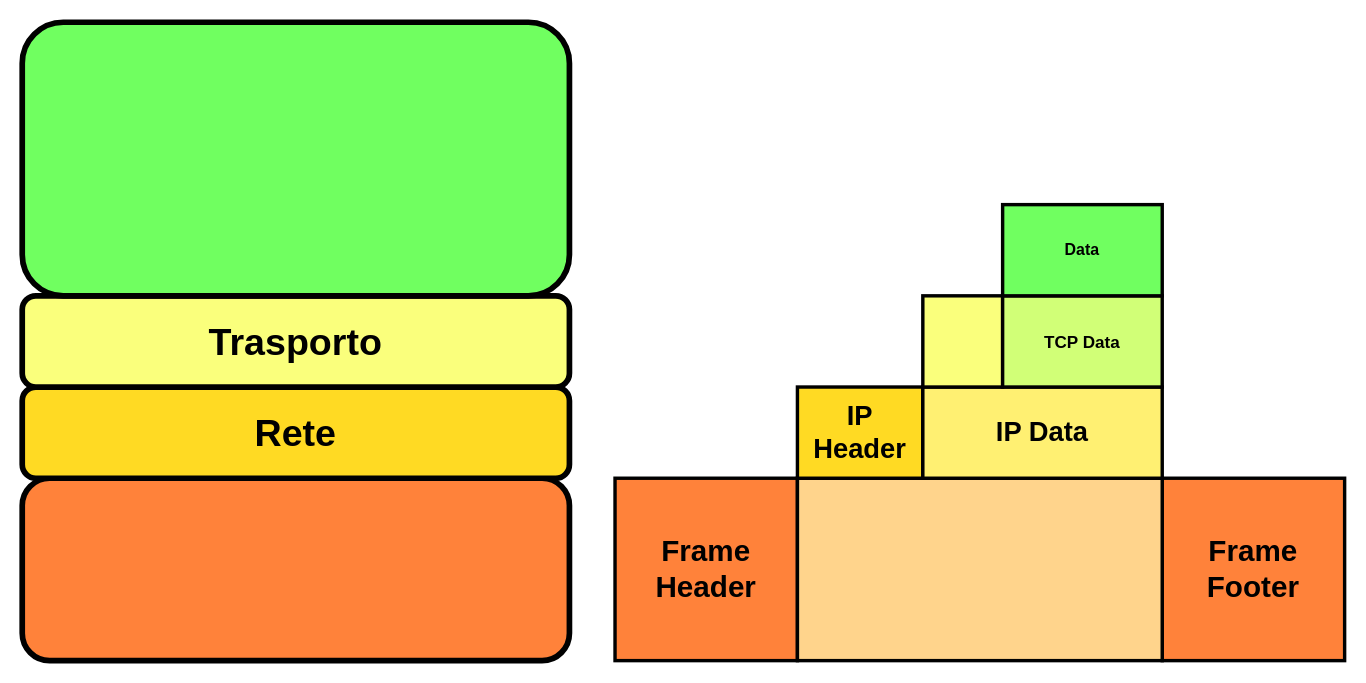
This 1366x683 diagram has some shape labels left out. Here are the shapes that lost their labels. From the top down, the centre of each, then its label:
pixel 295 158: Applicazione
pixel 962 341: TCP Header
pixel 295 569: Accesso alla rete
pixel 979 569: Frame Data
